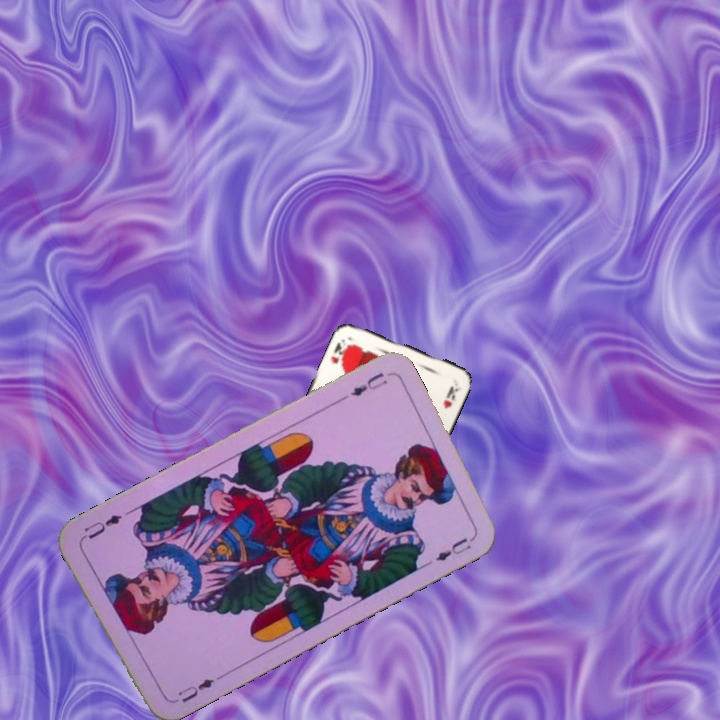EU: (168, 674, 218, 706), (346, 368, 391, 399)
HK: (327, 335, 353, 368)
